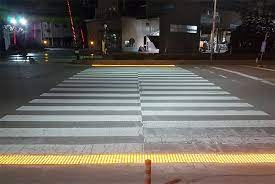guide_blocks: (2, 154, 275, 163), (91, 64, 175, 67)
